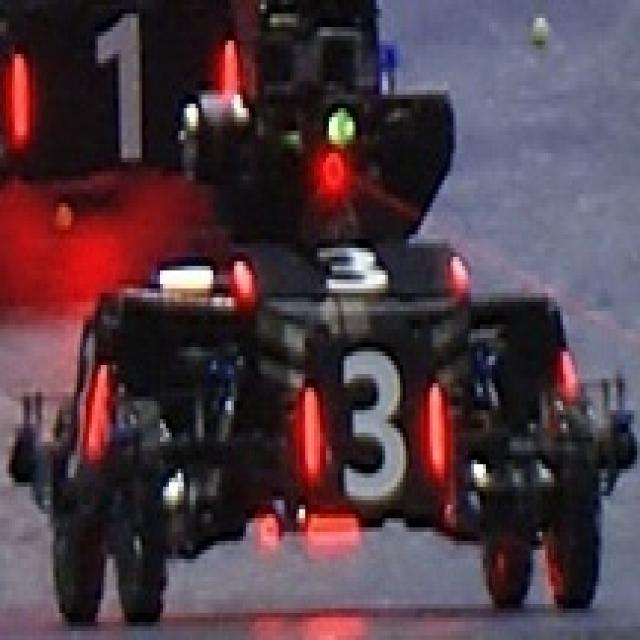R1: (3, 4, 246, 176)
R3: (282, 342, 459, 505), (219, 212, 468, 306), (62, 306, 113, 492)
